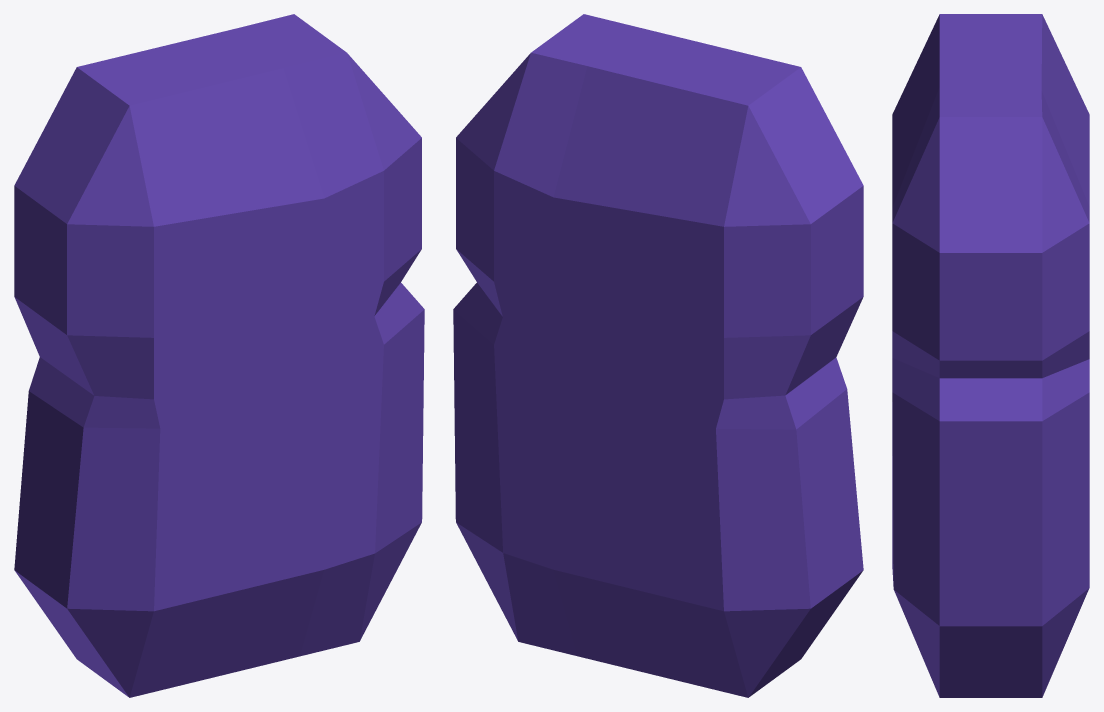
File: Crystal1 Damaged.glb
3 renders of one model, left to right at view 1: azimuth 30°, elevation 25°; view 2: azimuth 150°, elevation 25°; view 3: azimuth 270°, elevation 25°, orthographic. The views are drawn at different scales.
Parts seen in each view (by area): view 1: Crystal1_Damaged; view 2: Crystal1_Damaged; view 3: Crystal1_Damaged.
Part boxes in pixels (x1=…): Crystal1_Damaged: x1=14, y1=14, x2=424, y2=697; Crystal1_Damaged: x1=453, y1=14, x2=863, y2=697; Crystal1_Damaged: x1=892, y1=14, x2=1089, y2=697.
Size of the model in its own units: 0.195 by 0.3086 by 0.0959.
